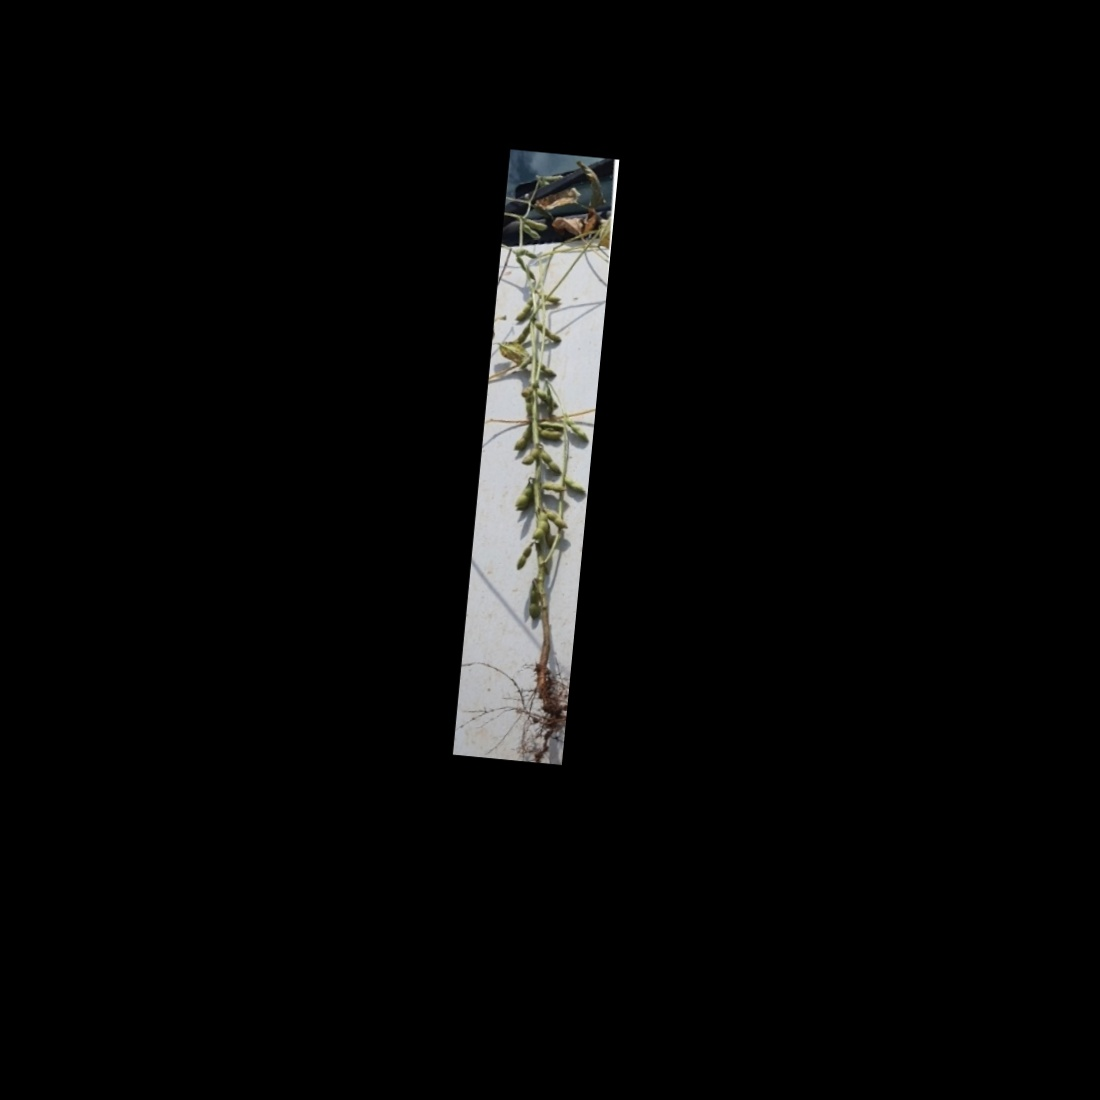pod: (535, 444, 564, 477), (563, 417, 591, 445), (534, 320, 564, 345), (523, 585, 543, 621), (512, 423, 532, 453), (531, 509, 550, 540), (546, 507, 571, 530), (513, 543, 532, 573), (512, 296, 532, 324), (563, 473, 587, 497), (536, 477, 566, 493), (536, 425, 564, 441), (522, 217, 550, 233), (518, 446, 538, 467), (520, 223, 541, 241), (513, 322, 530, 343)
soy: (465, 174, 615, 718)
